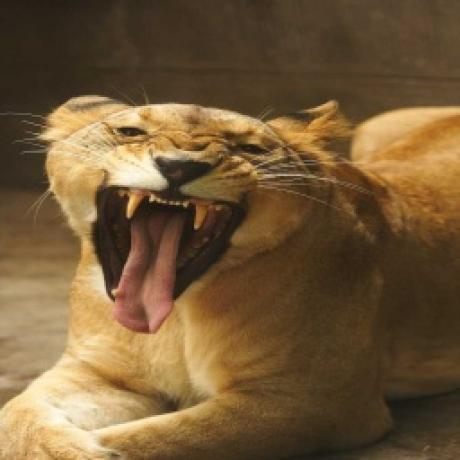Lion: (0, 91, 460, 460)
